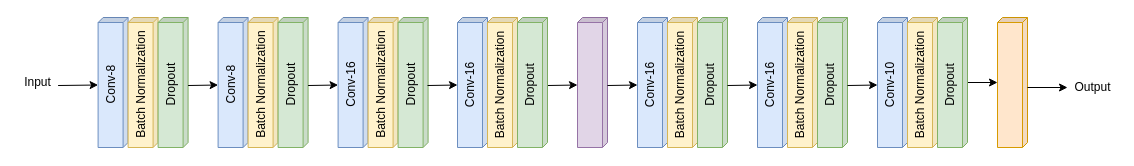
Image size: 1134x166. Some labels were removed from this diagram. Here are the shapes that lost their labels. From the top down, the centre of each, then its label:
pixel 592 82: Max Pooling
pixel 1012 82: Global Avg. Pooling
